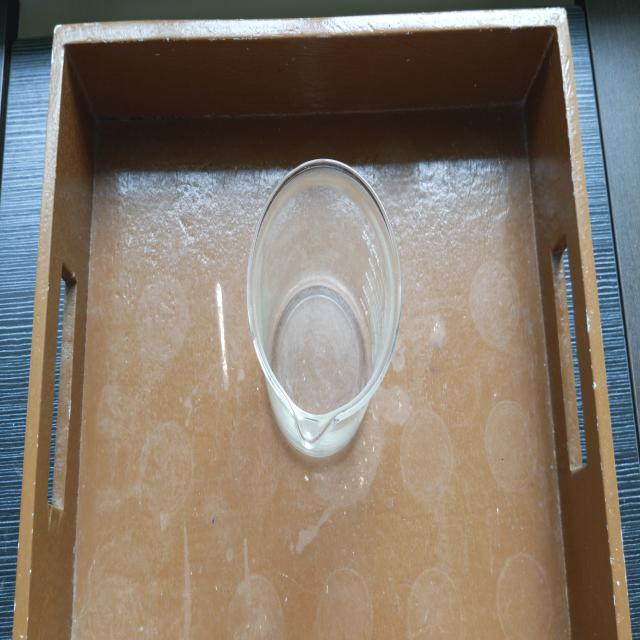beaker: (244, 152, 406, 466)
